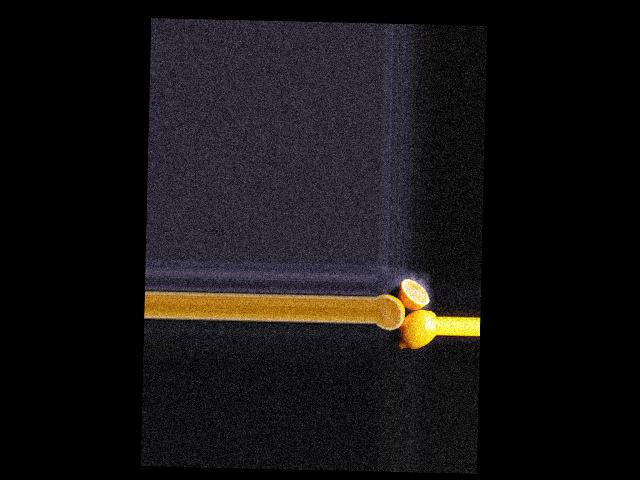lemon: (399, 306, 435, 352)
